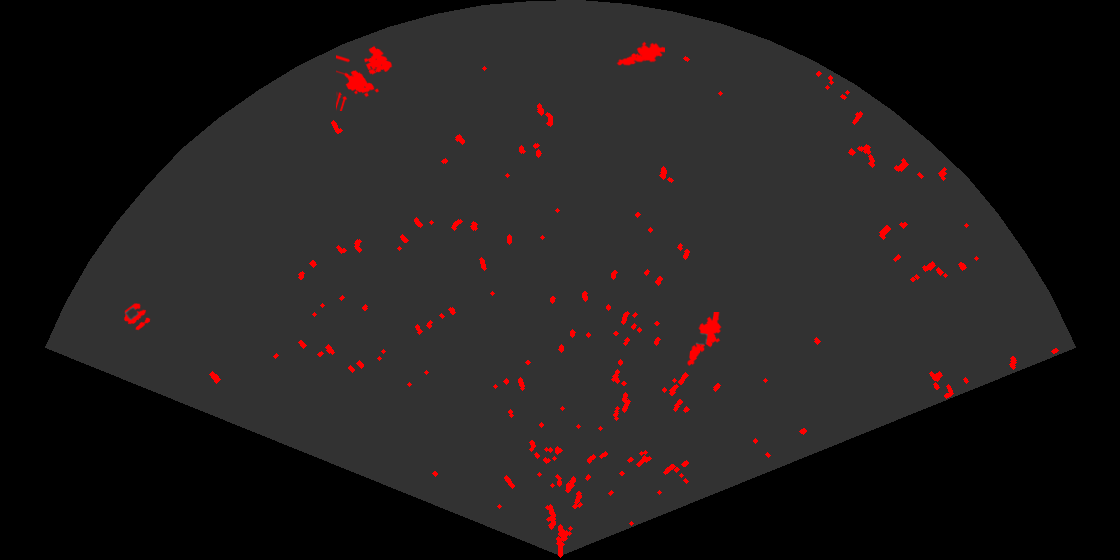ball: (122, 302, 152, 332)
cage: (336, 44, 394, 111)
frogman: (686, 312, 723, 368), (616, 40, 665, 67)
